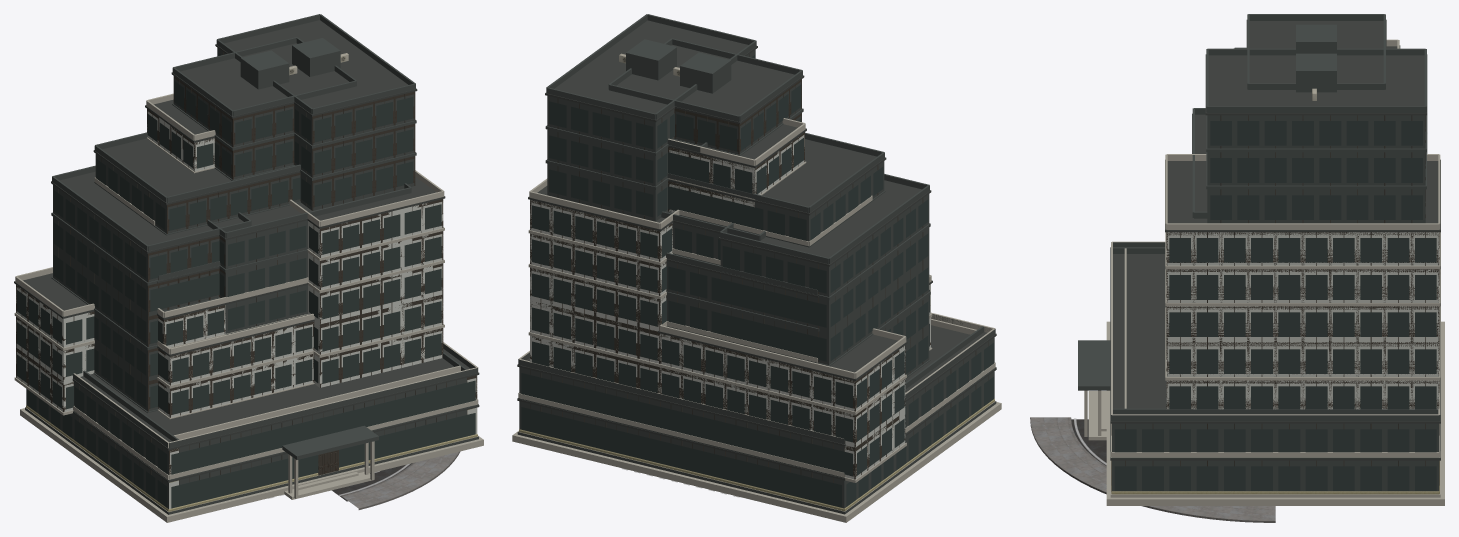
Rendered from offices.glb.
The picture shows the model from 3 angles, left to right: view 1: azimuth 30°, elevation 25°; view 2: azimuth 150°, elevation 25°; view 3: azimuth 270°, elevation 25°; orthographic projection. The views are drawn at different scales.
Parts seen in each view (by area): view 1: Office_2_far, Office_3_far, Office_1_far, Office_5_far, Office_5_near, Office_4_far, Office_2_near, Office_3_near, Office_4_near, Office_0_near, Office_0_far, Street_Curve_4LaneShort.001 (+1 smaller); view 2: Office_2_far, Office_3_far, Office_5_far, Office_3_near, Office_2_near, Office_5_near, Office_4_far, Office_4_near, Office_1_far, Office_0_near, Office_1_near, Office_0_far; view 3: Office_3_far, Office_2_far, Office_3_near, Office_2_near, Office_5_far, Office_5_near, Street_Curve_4LaneShort.001, Office_1_near, Office_1_far, Office_4_near, Office_4_far, Office_0_near.
Boxes of the visible parts, x1,y1,x2,y2 form: Office_2_far: (20, 14, 483, 516); Office_3_far: (14, 191, 479, 507); Office_1_far: (176, 187, 472, 514); Office_5_far: (83, 37, 440, 487); Office_5_near: (93, 38, 468, 512); Office_4_far: (25, 95, 483, 522); Office_2_near: (25, 15, 478, 514); Office_3_near: (14, 170, 479, 522); Office_4_near: (73, 93, 483, 522); Office_0_near: (94, 178, 460, 493); Office_0_far: (95, 177, 460, 492); Street_Curve_4LaneShort.001: (332, 451, 460, 509); Office_2_far: (513, 14, 1001, 516); Office_3_far: (517, 182, 1001, 521); Office_5_far: (528, 38, 984, 503); Office_3_near: (517, 178, 1001, 522); Office_2_near: (512, 15, 996, 522); Office_5_near: (523, 39, 886, 519); Office_4_far: (518, 119, 995, 511); Office_4_near: (517, 118, 995, 448); Office_1_far: (523, 139, 836, 513); Office_0_near: (679, 196, 976, 334); Office_1_near: (540, 143, 984, 479); Office_0_far: (679, 195, 972, 334); Office_3_far: (1078, 155, 1440, 497); Office_2_far: (1101, 48, 1444, 499); Office_3_near: (1078, 154, 1440, 497); Office_2_near: (1101, 49, 1444, 505); Office_5_far: (1101, 14, 1440, 428); Office_5_near: (1101, 19, 1439, 485); Street_Curve_4LaneShort.001: (1030, 417, 1275, 522); Office_1_near: (1110, 108, 1440, 451); Office_1_far: (1106, 109, 1444, 493); Office_4_near: (1084, 39, 1440, 436); Office_4_far: (1110, 40, 1440, 494); Office_0_near: (1098, 248, 1126, 435).
Bounding box in the file's own units: 34.12 × 32.6 × 30.4.
14 materials, 7 textured.
